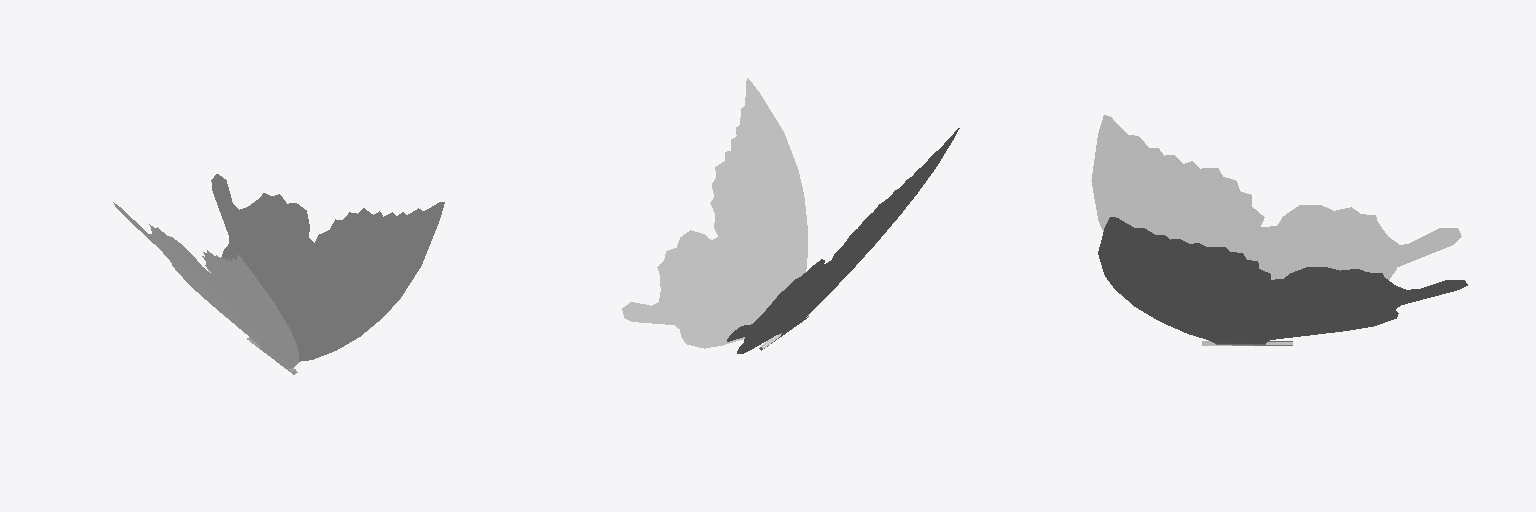
File: mob_29.obj
3 views of the same model, side by side, from view 1: azimuth 30°, elevation 25°; view 2: azimuth 150°, elevation 25°; view 3: azimuth 270°, elevation 25° (orthographic).
Visible parts, largest first — view 1: Cube; view 2: Cube; view 3: Cube.
Part boxes in pixels (left/top/right/bottom): Cube: left=113, top=174, right=444, bottom=374; Cube: left=622, top=78, right=959, bottom=353; Cube: left=1091, top=115, right=1467, bottom=345.
Size of the model in its own units: 1.25 by 1.04 by 1.96.